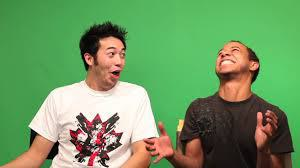poggers: (80, 27, 127, 89)
